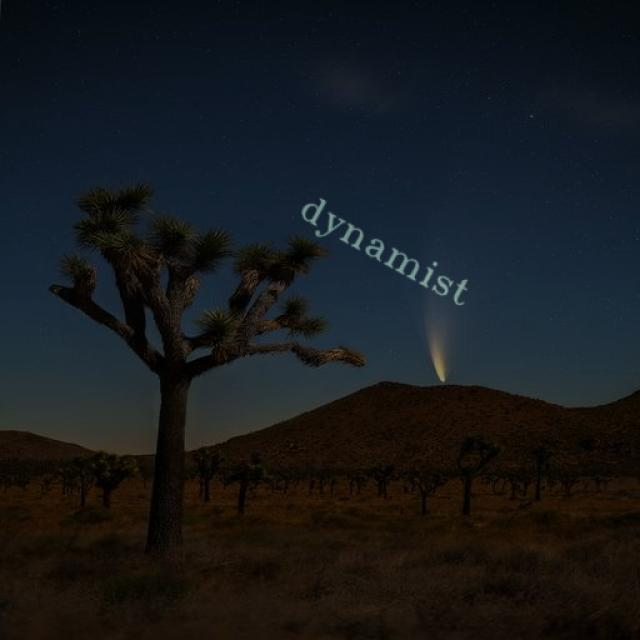watermark: (287, 186, 489, 313)
